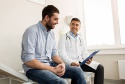male: (41, 5, 62, 31), (68, 18, 82, 36)
